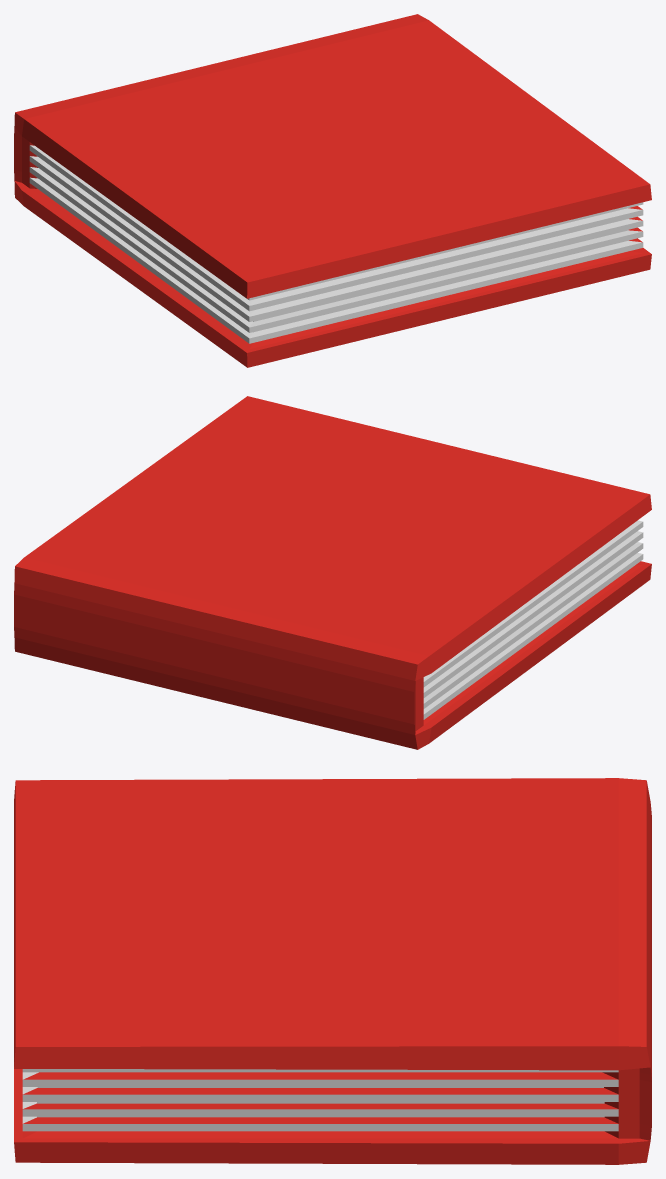
File: RedBook.fbx
3 views of the same model, one above another, from view 1: azimuth 30°, elevation 25°; view 2: azimuth 150°, elevation 25°; view 3: azimuth 270°, elevation 25° (orthographic). The views are drawn at different scales.
Visible parts, largest first — view 1: Cube.001; view 2: Cube.001; view 3: Cube.001.
Boxes of the visible parts, x1=… form: Cube.001: x1=14, y1=14, x2=651, y2=367; Cube.001: x1=14, y1=396, x2=651, y2=749; Cube.001: x1=14, y1=778, x2=651, y2=1164.
Bounding box in the file's own units: 208 × 42.45 × 207.
